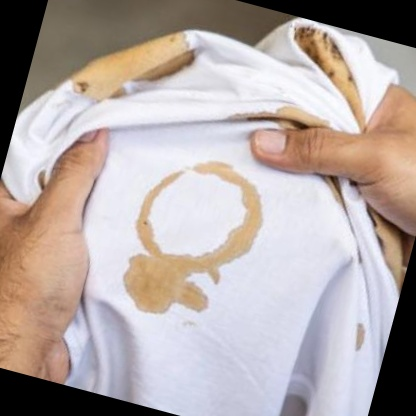coffee: (117, 243, 202, 321), (230, 189, 268, 256), (130, 211, 163, 250), (205, 164, 250, 185), (201, 247, 226, 276)
